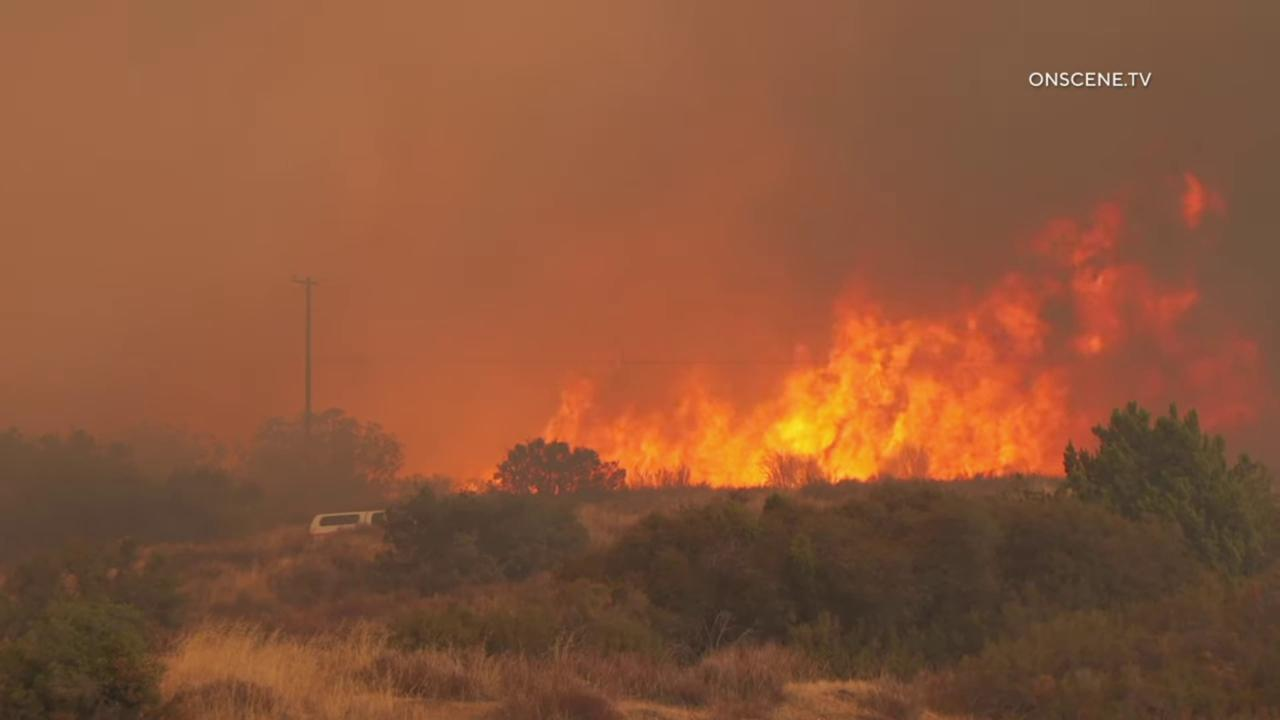fire: (462, 159, 1280, 496)
smoke: (0, 0, 1280, 505)
